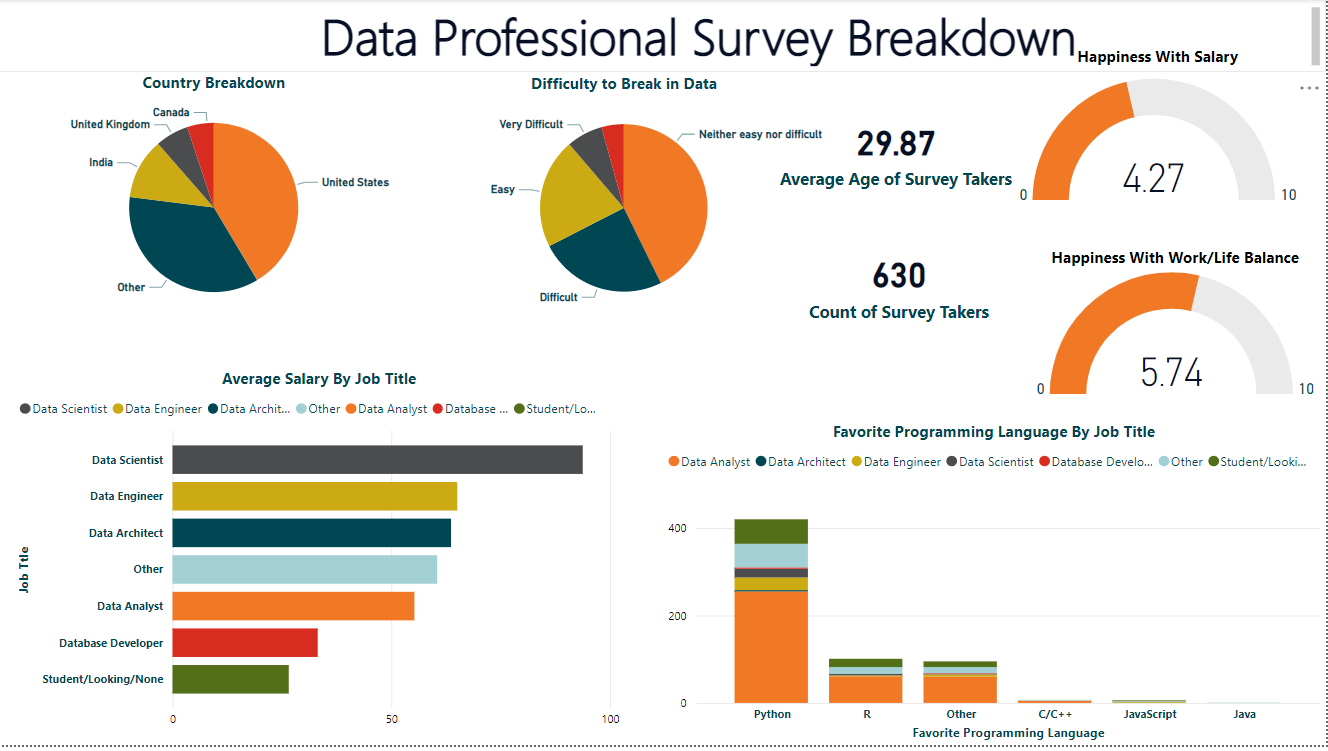

The dashboard page shown, as its layout file describes it:
{"tool":"powerbi","page":{"name":"Page 1","canvas":[1280,720],"ordinal":0},"visuals":[{"type":"textbox","box":[0,0,1279.6,69.9],"z":0},{"type":"card","fields":{"Values":["Count(Data Professional Survey.Unique ID)"]},"box":[762.7,211.3,212.3,127.8],"z":1000},{"type":"card","fields":{"Values":["Avg(Data Professional Survey.Q10 - Current Age)"]},"box":[733.7,96.5,264.1,101.3],"z":2000},{"type":"barChart","title":"Average Salary By Job Title","fields":{"Category":["Data Professional Survey.Q1 - Which Title Best Fits your Current Role?.1"],"Y":["Avg(Data Professional Survey.Average Income USD)"],"Series":["Data Professional Survey.Q1 - Which Title Best Fits your Current Role?.1"]},"box":[14.2,356.3,588.8,356.5],"z":3000},{"type":"columnChart","title":"Favorite Programming Language By Job Title","fields":{"Category":["Data Professional Survey.Q5 - Favorite Programming Language.1"],"Y":["CountNonNull(Data Professional Survey.Unique ID)"],"Series":["Data Professional Survey.Q1 - Which Title Best Fits your Current Role?.1"]},"box":[640.4,406.4,639.2,313.6],"z":4000},{"type":"pieChart","title":"Country Breakdown","fields":{"Category":["Data Professional Survey.Q11 - Which Country do you live in?.1"],"Y":["CountNonNull(Data Professional Survey.Unique ID)"]},"box":[0,69.9,414.6,242.7],"z":5000},{"type":"gauge","title":"Happiness With Work/Life Balance","fields":{"Y":["Avg(Data Professional Survey.Q6 - How Happy are you in your Current Position with the following? (Work/Life Balance))"],"MinValue":["Min(Data Professional Survey.Q6 - How Happy are you in your Current Position with the following? (Work/Life Balance))1"],"MaxValue":["Max(Data Professional Survey.Q6 - How Happy are you in your Current Position with the following? (Work/Life Balance))2"]},"box":[990.5,238.3,289.4,152],"z":6000},{"type":"gauge","title":"Happiness With Salary","fields":{"Y":["Avg(Data Professional Survey.Q6 - How Happy are you in your Current Position with the following? (Salary))"],"MinValue":["Min(Data Professional Survey.Q6 - How Happy are you in your Current Position with the following? (Salary))"],"MaxValue":["Max(Data Professional Survey.Q6 - How Happy are you in your Current Position with the following? (Salary))1"]},"box":[974.5,44.6,287,166.4],"z":7000},{"type":"pieChart","title":"Difficulty to Break in Data","fields":{"Category":["Data Professional Survey.Q7 - How difficult was it for you to break into Data?"],"Y":["CountNonNull(Data Professional Survey.Unique ID)"]},"box":[402.8,71.2,400.4,241.2],"z":8000}]}

Visuals, with their boxes in screenshot pixels (x1, y1, x2, y2), scaled from the page's 1280x720 canvas onto the 1328x751 screenshot:
textbox: [0,0,1327,73]
card - Count(Data Professional Survey.Unique ID): [791,220,1012,354]
card - Avg(Data Professional Survey.Q10 - Current Age): [761,101,1035,206]
"Average Salary By Job Title" barChart: [15,372,626,743]
"Favorite Programming Language By Job Title" columnChart: [664,424,1327,750]
"Country Breakdown" pieChart: [0,73,430,326]
"Happiness With Work/Life Balance" gauge: [1028,249,1327,407]
"Happiness With Salary" gauge: [1011,47,1309,220]
"Difficulty to Break in Data" pieChart: [418,74,833,326]
